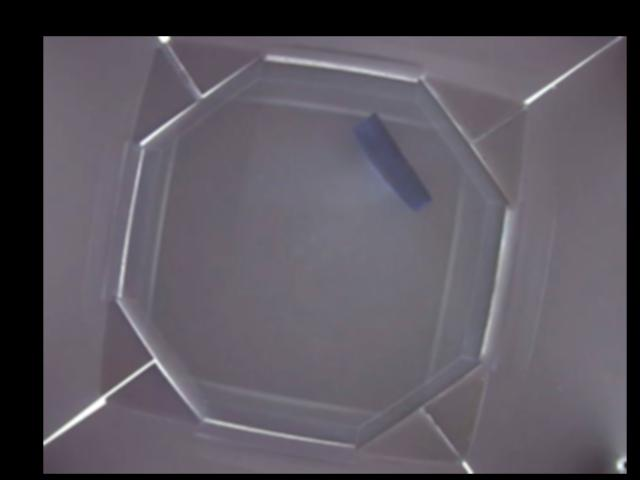Mooli: (352, 110, 434, 213)
